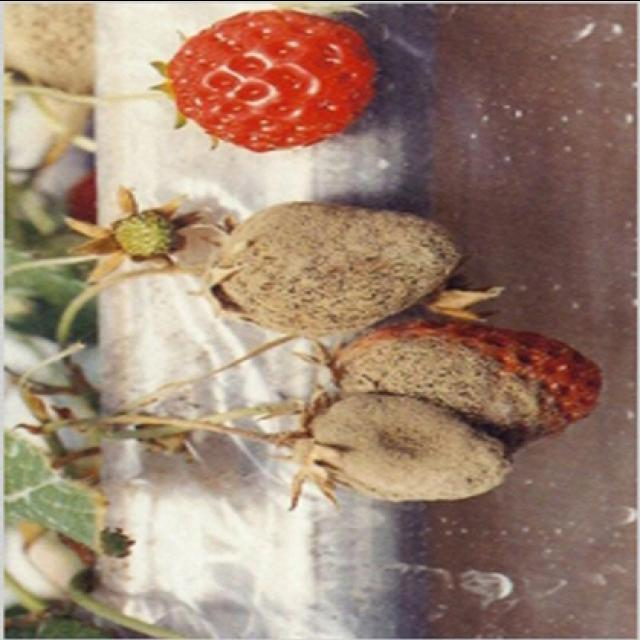Gray Mold: (327, 311, 603, 456), (199, 199, 469, 333), (296, 392, 516, 500)
